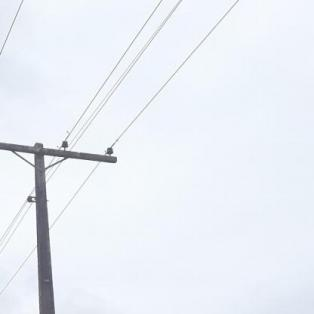Poste: (32, 141, 80, 314)
